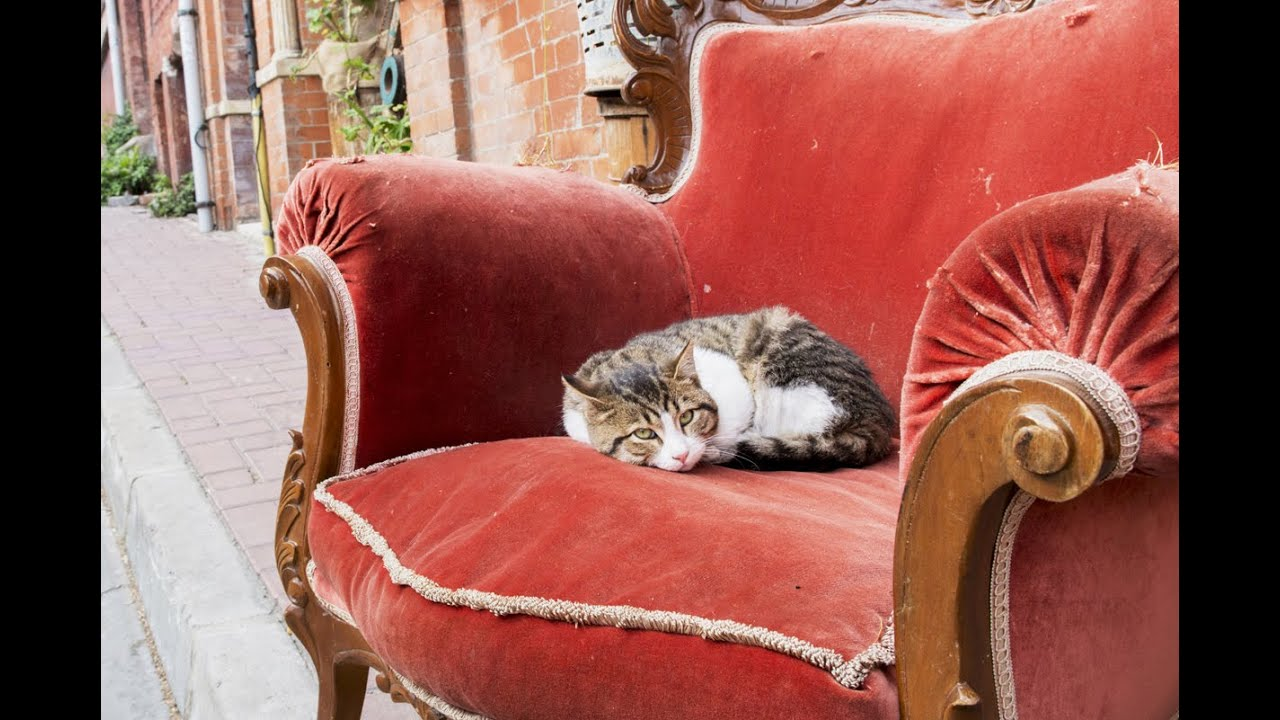cat: (527, 271, 899, 503)
